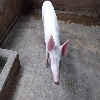heo: (45, 33, 70, 86)
